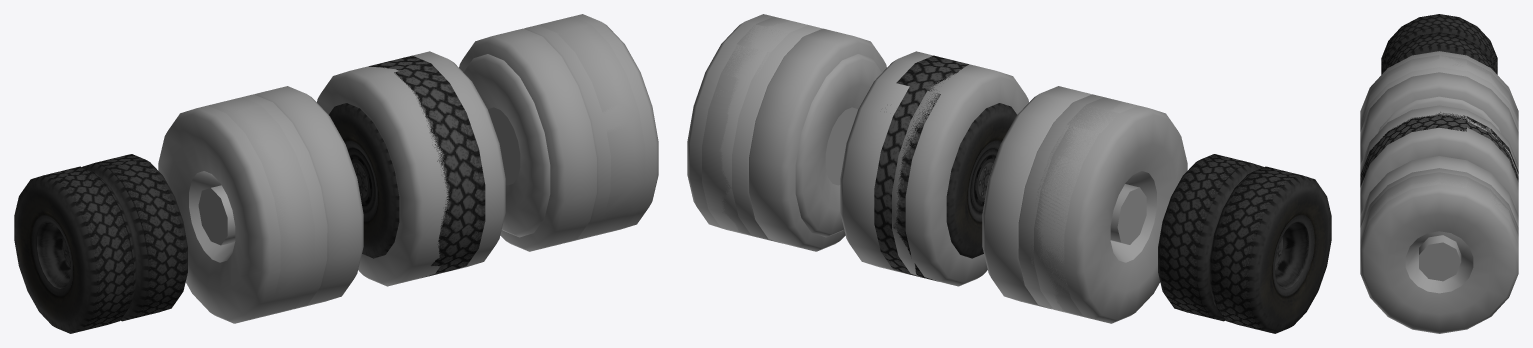
File: runFlat_models.fbx
The picture shows the model from 3 angles, left to right: view 1: azimuth 30°, elevation 25°; view 2: azimuth 150°, elevation 25°; view 3: azimuth 270°, elevation 25°; orthographic projection. The views are drawn at different scales.
Parts seen in each view (by area): view 1: runFlat_Large_2Axle, runFlat_Small_4Axle, runFlat_Large_4Axle, runFlat_Large_Double, runFlat_Large, runFlat_Medium_4Axle, runFlat_Large_2AxleB; view 2: runFlat_Small_4Axle, runFlat_Large_2Axle, runFlat_Large_4Axle, runFlat_Large_Double, runFlat_Large_2AxleB, runFlat_Medium_4Axle, runFlat_Large; view 3: runFlat_Large_2Axle, runFlat_Large_4Axle, runFlat_Large_Double, runFlat_Small_4Axle, runFlat_Large_2AxleB, runFlat_Large, runFlat_Medium_4Axle.
Part boxes in pixels (left/top/right/bottom): runFlat_Large_2Axle: left=158, top=14, right=658, bottom=323; runFlat_Small_4Axle: left=14, top=103, right=399, bottom=333; runFlat_Large_4Axle: left=208, top=16, right=645, bottom=319; runFlat_Large_Double: left=317, top=51, right=505, bottom=286; runFlat_Large: left=368, top=55, right=485, bottom=278; runFlat_Medium_4Axle: left=463, top=54, right=550, bottom=237; runFlat_Large_2AxleB: left=225, top=20, right=636, bottom=320; runFlat_Small_4Axle: left=946, top=103, right=1331, bottom=333; runFlat_Large_2Axle: left=687, top=14, right=1187, bottom=323; runFlat_Large_4Axle: left=719, top=16, right=1137, bottom=315; runFlat_Large_Double: left=840, top=51, right=1029, bottom=286; runFlat_Large_2AxleB: left=702, top=25, right=1117, bottom=320; runFlat_Medium_4Axle: left=795, top=54, right=882, bottom=237; runFlat_Large: left=874, top=55, right=968, bottom=281; runFlat_Large_2Axle: left=1360, top=51, right=1518, bottom=333; runFlat_Large_4Axle: left=1360, top=55, right=1518, bottom=243; runFlat_Large_Double: left=1360, top=105, right=1518, bottom=215; runFlat_Small_4Axle: left=1381, top=14, right=1497, bottom=74; runFlat_Large_2AxleB: left=1360, top=56, right=1518, bottom=253; runFlat_Large: left=1360, top=112, right=1518, bottom=187; runFlat_Medium_4Axle: left=1378, top=96, right=1500, bottom=132.
Size of the model in its own units: 3.66 by 1.25 by 1.23.
Materials: 5 (4 with a texture image).
